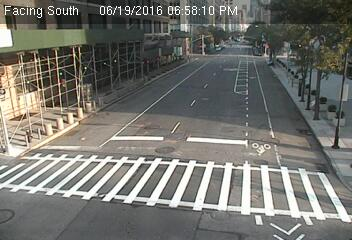neg: (74, 183, 92, 206), (221, 190, 238, 214), (112, 140, 129, 163), (229, 120, 246, 142), (118, 186, 134, 208), (31, 59, 47, 80), (33, 96, 49, 117), (173, 196, 189, 217), (187, 58, 202, 78), (248, 71, 262, 90), (325, 105, 339, 124), (74, 98, 88, 115), (299, 173, 313, 190), (79, 127, 92, 145), (291, 68, 304, 86), (221, 42, 234, 60), (266, 187, 279, 205), (114, 51, 127, 68), (157, 136, 170, 152), (159, 56, 171, 73), (196, 128, 208, 144), (255, 140, 267, 156), (301, 120, 313, 136), (33, 127, 45, 142), (80, 61, 90, 75), (46, 171, 56, 185)
